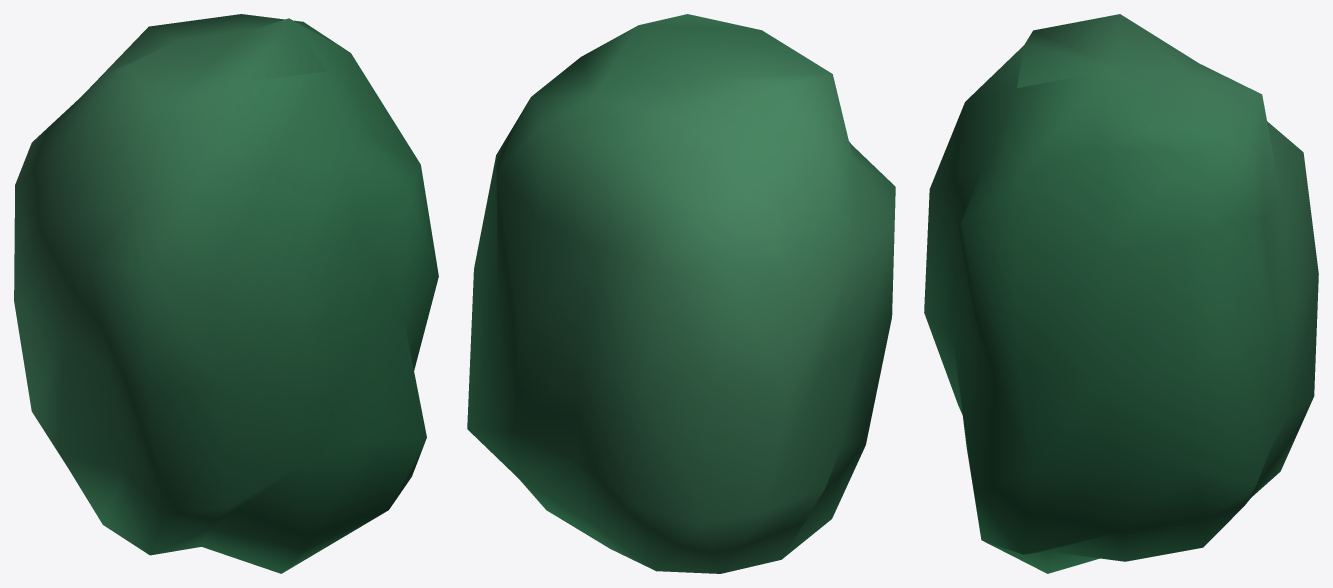
The model's file is Bush_01.fbx.
3 views of the same model, side by side, from view 1: azimuth 30°, elevation 25°; view 2: azimuth 150°, elevation 25°; view 3: azimuth 270°, elevation 25° (orthographic).
Visible parts, largest first — view 1: Plane.167; view 2: Plane.167; view 3: Plane.167.
Boxes of the visible parts, left/top/right/bottom form: Plane.167: left=14, top=14, right=438, bottom=573; Plane.167: left=467, top=14, right=895, bottom=573; Plane.167: left=924, top=14, right=1318, bottom=573.
Size of the model in its own units: 195 by 277 by 190.
